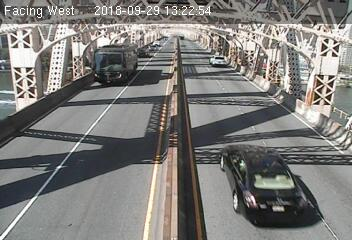car: (214, 142, 316, 220), (91, 44, 140, 86), (207, 53, 232, 70)
